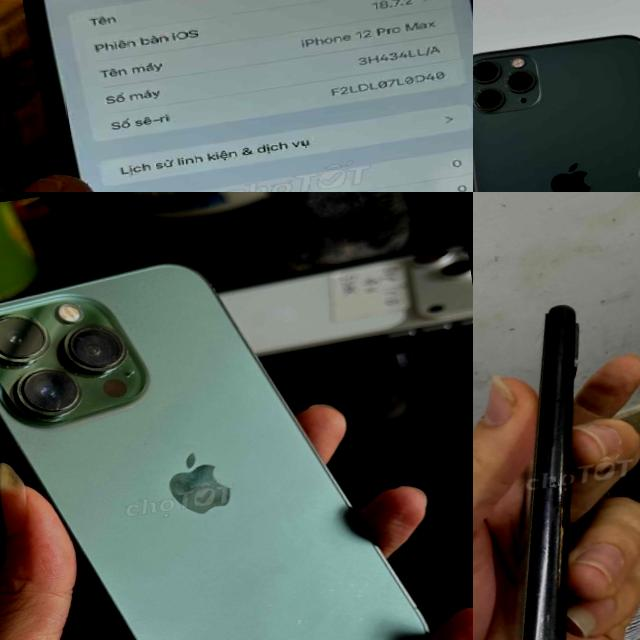gen_11: (473, 18, 640, 192)
gen_12_13: (0, 231, 454, 640), (23, 0, 473, 192)
gen_x_xs: (510, 305, 579, 640)
